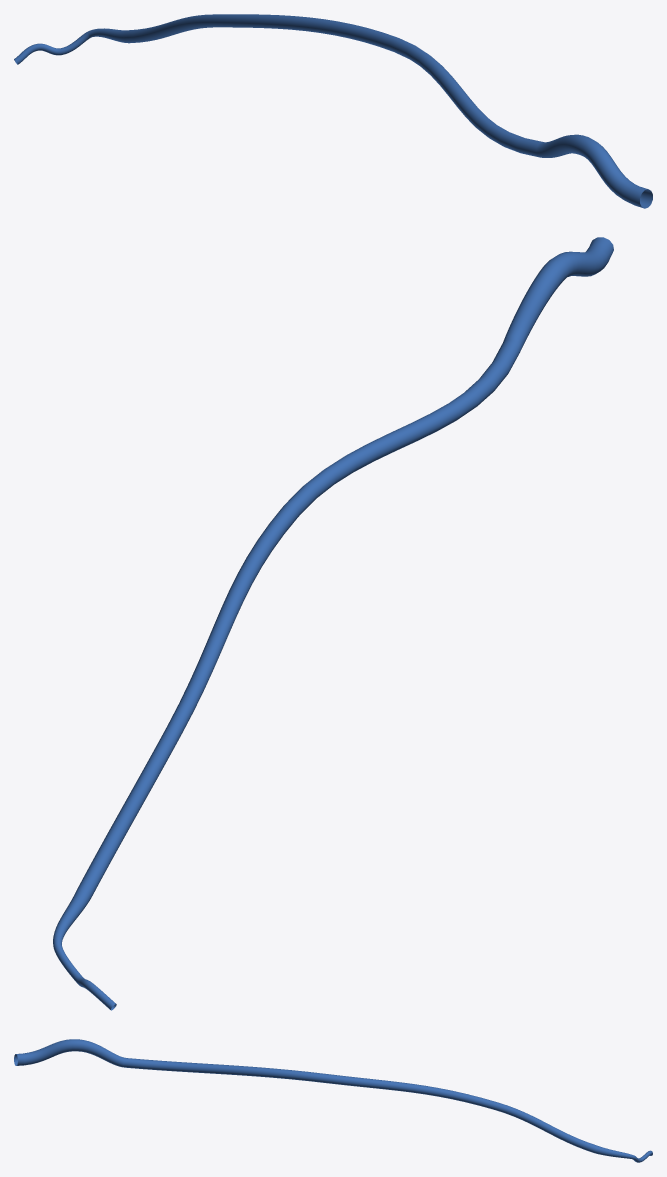
3 renders of one model, top to bottom at view 1: azimuth 30°, elevation 25°; view 2: azimuth 150°, elevation 25°; view 3: azimuth 270°, elevation 25°, orthographic. The views are drawn at different scales.
Parts seen in each view (by area): view 1: 右侧尺静脉; view 2: 右侧尺静脉; view 3: 右侧尺静脉.
Boxes of the visible parts, x1,y1,x2,y2 form: 右侧尺静脉: [14, 14, 652, 208]; 右侧尺静脉: [53, 237, 613, 1010]; 右侧尺静脉: [14, 1039, 652, 1162].
Bounding box in the file's own units: 0.0436 × 0.0782 × 0.3049.
